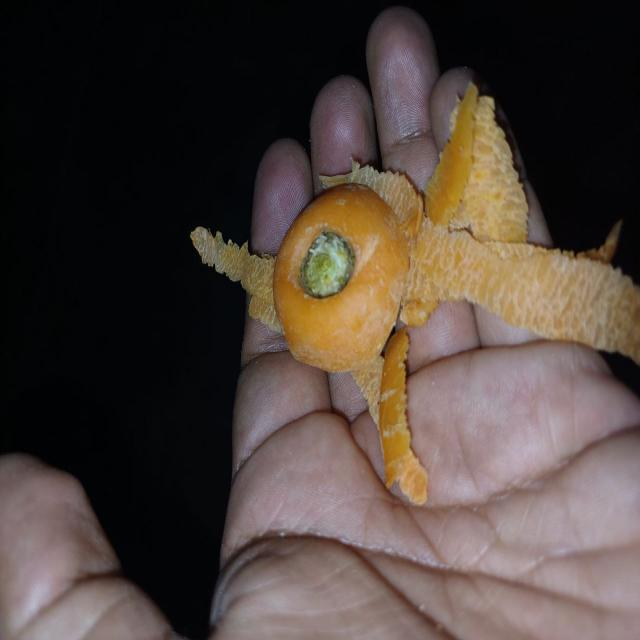organic: (192, 86, 640, 503)
